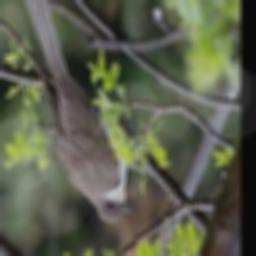Cuckoo: (21, 0, 134, 224)
